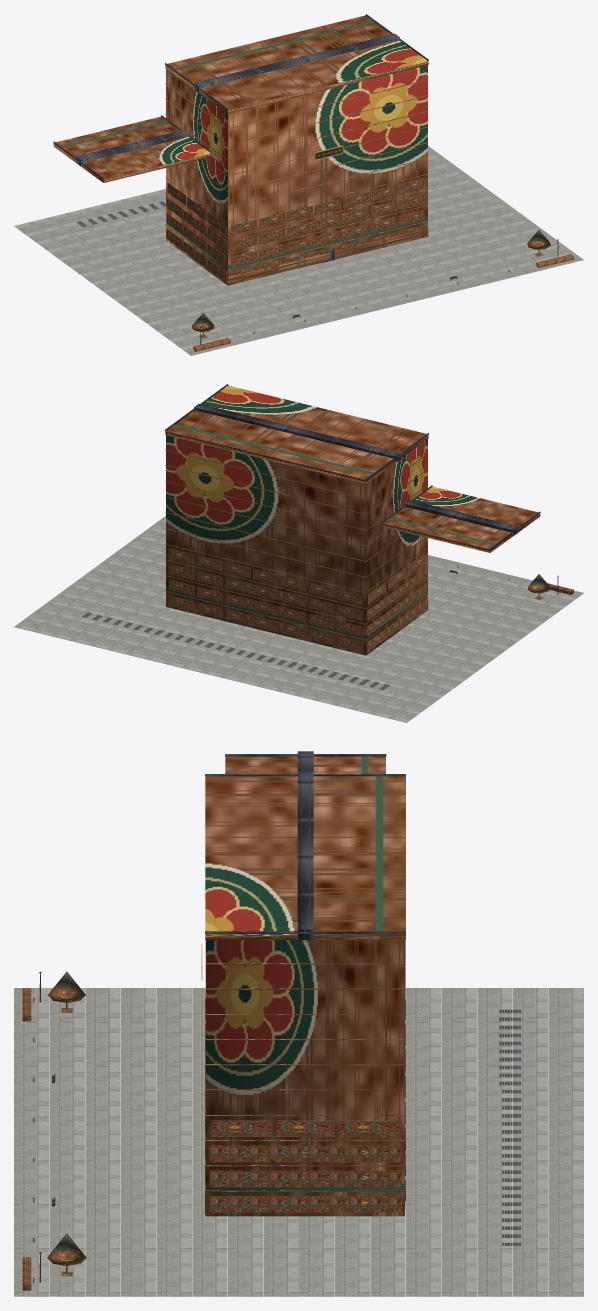
3 renders of one model, top to bottom at view 1: azimuth 30°, elevation 25°; view 2: azimuth 150°, elevation 25°; view 3: azimuth 270°, elevation 25°, orthographic. The views are drawn at different scales.
Visible parts, largest first — view 1: 11680_01_06351_026_02__mass_body_facade, 11680_01_06351_026_01__plinth_ground_base, 11680_01_06351_026_03__roof_metal_ornament, 11680_01_06351_026_05__window_sash_glass, 11680_01_06351_026_06__landscape_greenery; view 2: 11680_01_06351_026_02__mass_body_facade, 11680_01_06351_026_01__plinth_ground_base, 11680_01_06351_026_03__roof_metal_ornament, 11680_01_06351_026_03__roof_deck_structure, 11680_01_06351_026_06__landscape_greenery; view 3: 11680_01_06351_026_01__plinth_ground_base, 11680_01_06351_026_02__mass_body_facade, 11680_01_06351_026_03__roof_metal_ornament, 11680_01_06351_026_03__roof_deck_structure, 11680_01_06351_026_06__landscape_greenery.
Part boxes in pixels (x1,y1,x2,y2): 11680_01_06351_026_02__mass_body_facade: (53,15,428,285); 11680_01_06351_026_01__plinth_ground_base: (14,146,583,355); 11680_01_06351_026_03__roof_metal_ornament: (53,14,428,179); 11680_01_06351_026_05__window_sash_glass: (241,196,415,273); 11680_01_06351_026_06__landscape_greenery: (192,229,573,351); 11680_01_06351_026_02__mass_body_facade: (165,385,540,655); 11680_01_06351_026_01__plinth_ground_base: (14,516,583,722); 11680_01_06351_026_03__roof_metal_ornament: (165,384,540,549); 11680_01_06351_026_03__roof_deck_structure: (82,612,389,690); 11680_01_06351_026_06__landscape_greenery: (527,574,573,599); 11680_01_06351_026_01__plinth_ground_base: (14,988,583,1296); 11680_01_06351_026_02__mass_body_facade: (205,756,405,1216); 11680_01_06351_026_03__roof_metal_ornament: (205,751,405,940); 11680_01_06351_026_03__roof_deck_structure: (499,1009,520,1245); 11680_01_06351_026_06__landscape_greenery: (22,971,86,1290).
Size of the model in its own units: 116 by 48.6 by 85.95.
7 materials, 7 textured.
